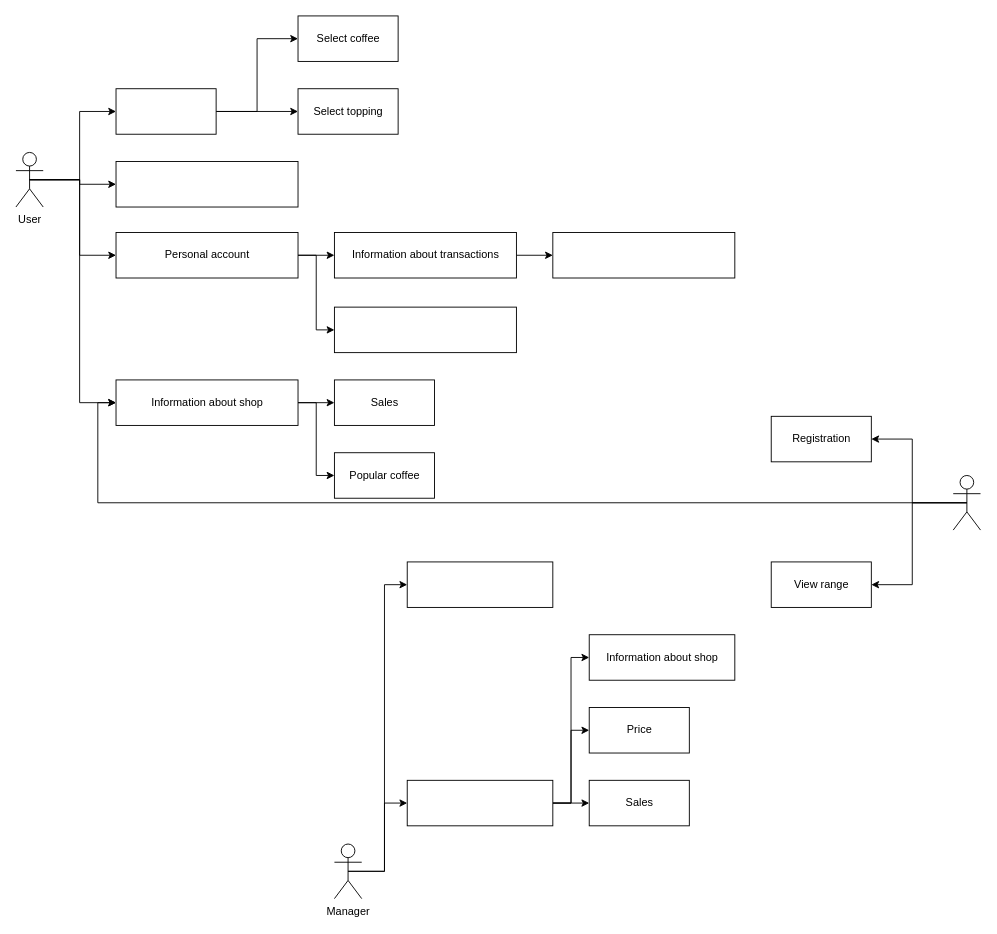
The diagram is 997 pixels wide and 934 high, and some of its shapes have lost their labels. The shapes that lost their labels are listed below. From the top down, each one's centre as x and y in pixels, then its label:
At (165,111): "Buy coffee".
At (206,184): "Contact with administration".
At (643,255): "Time and sum of transaction".
At (425,329): "Add money on account".
At (966,502): "Guest".
At (479,584): "Contact with users".
At (479,802): "Moderate content".
